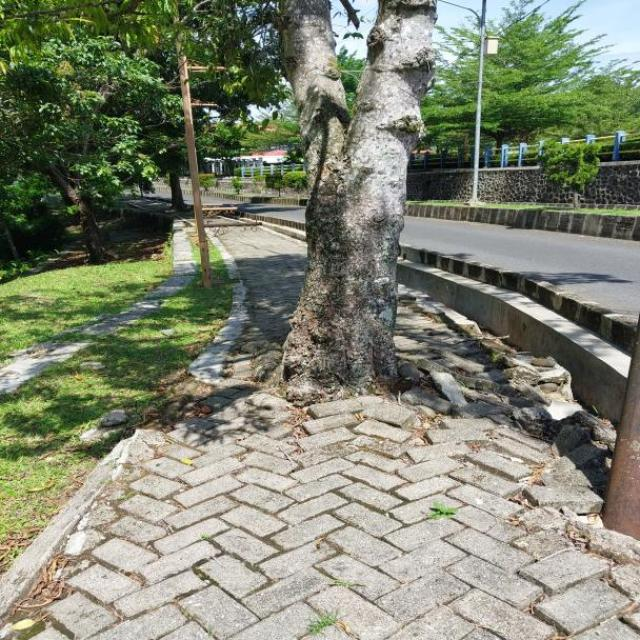tree ahead at: (272, 0, 442, 380)
